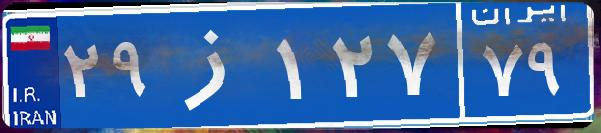1: (273, 28, 330, 110)
2: (330, 28, 385, 110), (57, 26, 110, 107)
7: (385, 28, 445, 110), (475, 38, 525, 113)
9: (110, 28, 158, 105), (525, 38, 570, 115)
ز: (158, 15, 273, 115)
